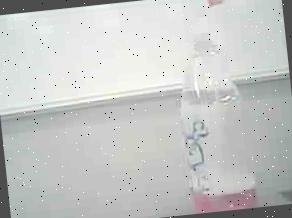hazard: (164, 0, 261, 214)
